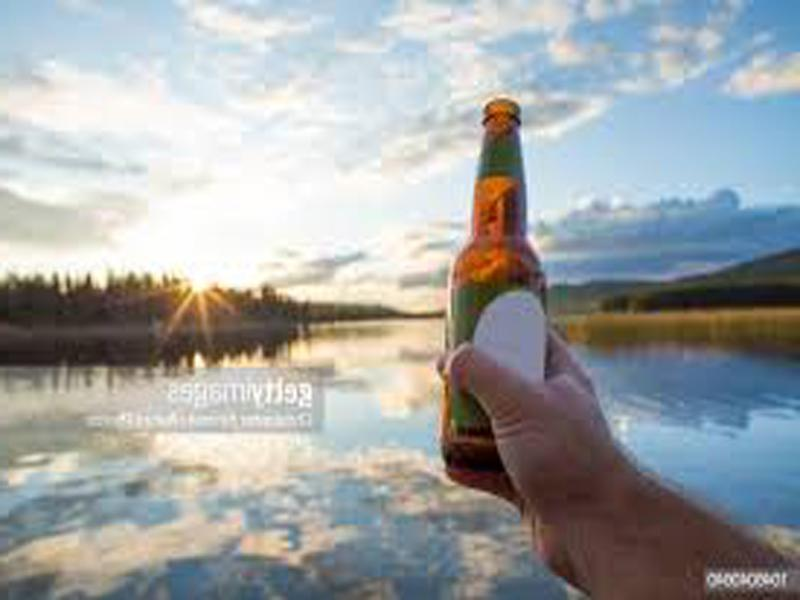Beer: (435, 95, 549, 466)
